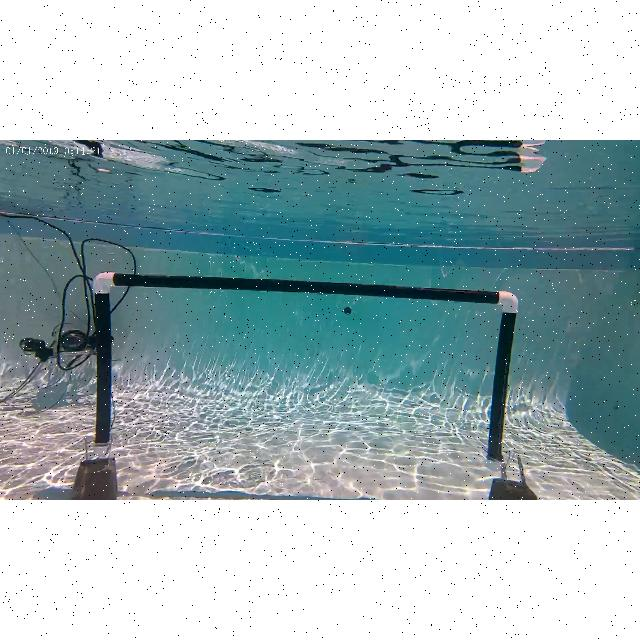prequal gate: (92, 271, 518, 473)
prequal gate leg l: (89, 274, 117, 501)
prequal gate leg r: (493, 290, 532, 500)
